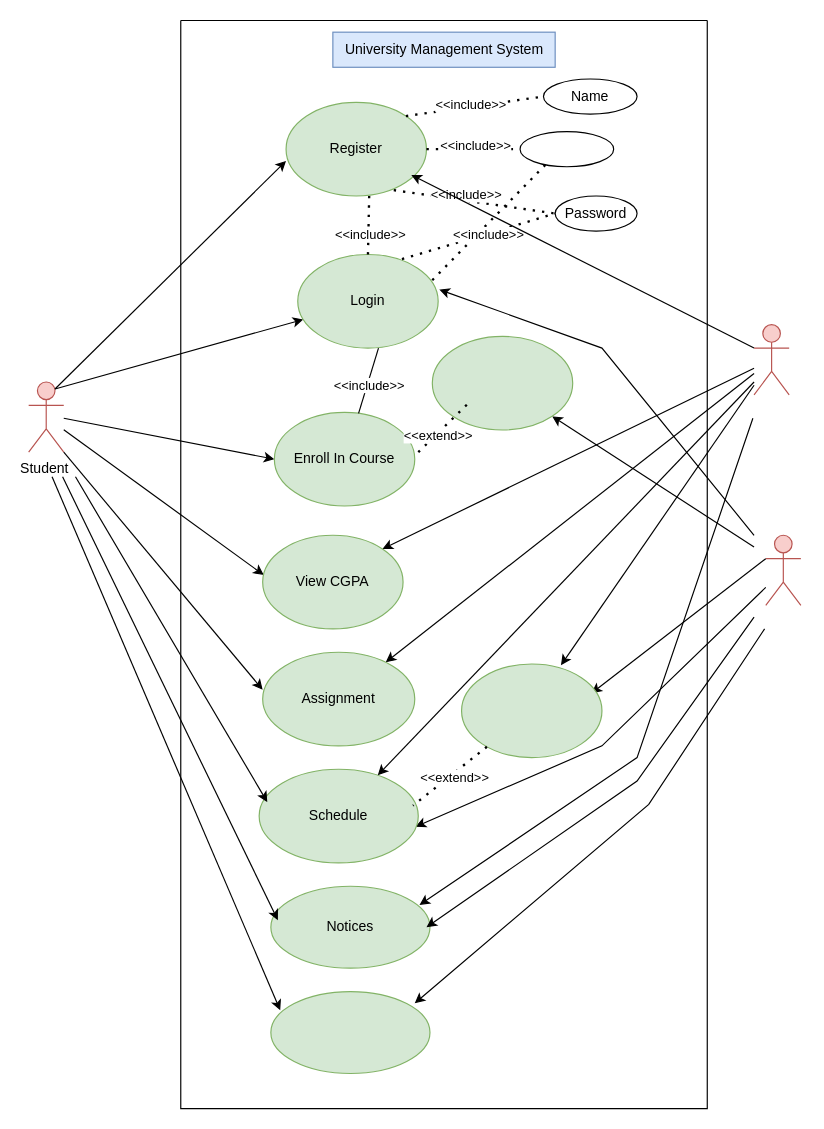
This 824x1129 diagram has some shape labels left out. The shapes that lost their labels are listed below. From the top down, each one's centre as x and y in pixels, then its label:
At (566,148): "Email".
At (771,359): "Teacher".
At (502,382): "Conform Admission".
At (783,569): "Admin".
At (531,710): "Manage Course Offering".
At (350,1031): "Payments".
